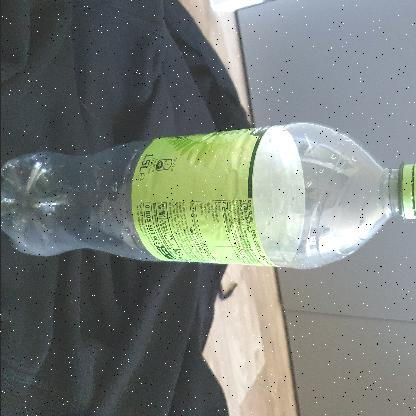Plastic Bottle: (0, 122, 416, 270)
